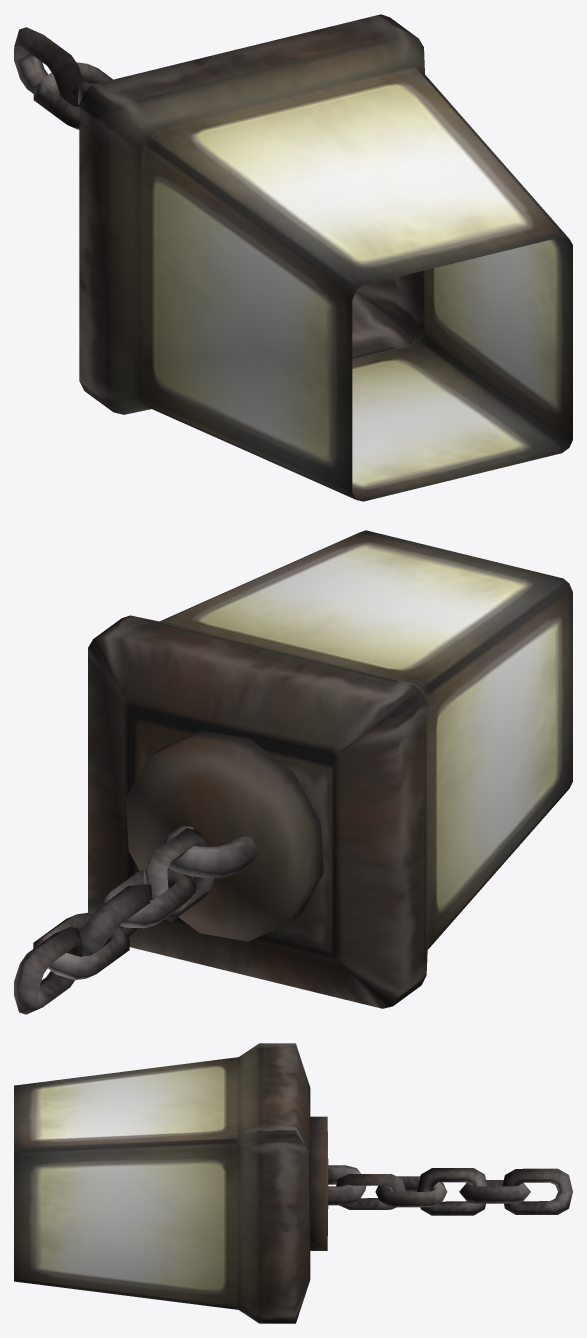
The model's file is Bandito_Lantern_002.FBX.
The picture shows the model from 3 angles, top to bottom: view 1: azimuth 30°, elevation 25°; view 2: azimuth 150°, elevation 25°; view 3: azimuth 270°, elevation 25°; orthographic projection. The views are drawn at different scales.
Visible parts, largest first — view 1: Bandito_lantern_002; view 2: Bandito_lantern_002; view 3: Bandito_lantern_002.
Boxes of the visible parts, x1=… form: Bandito_lantern_002: x1=14, y1=14, x2=572, y2=501; Bandito_lantern_002: x1=14, y1=530, x2=572, y2=1014; Bandito_lantern_002: x1=14, y1=1043, x2=572, y2=1323.
Bounding box in the file's own units: 0.4409 × 0.413 × 1.08.
